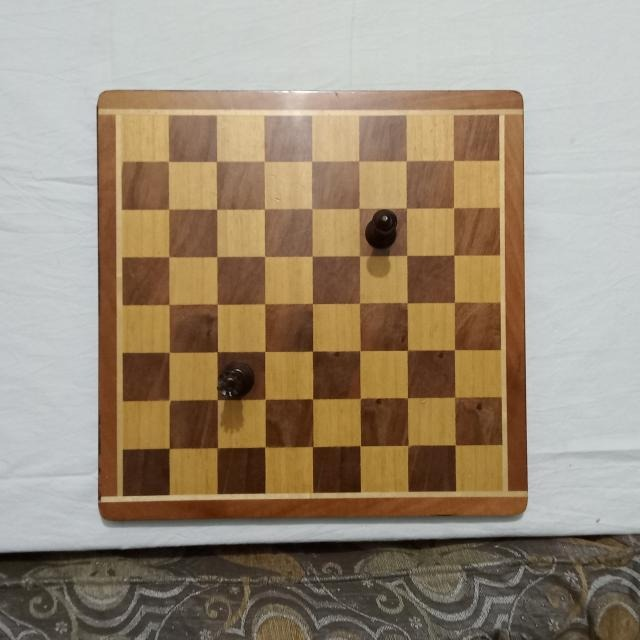black-king: (363, 208, 399, 252)
black-queen: (217, 363, 255, 401)
